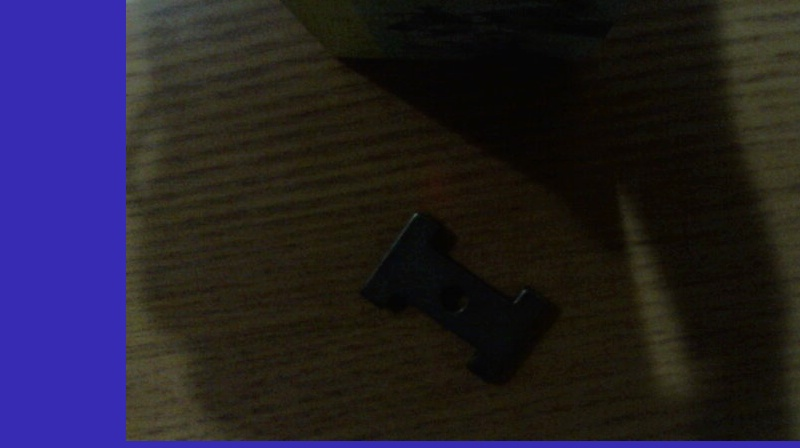O002: (356, 207, 561, 388)
